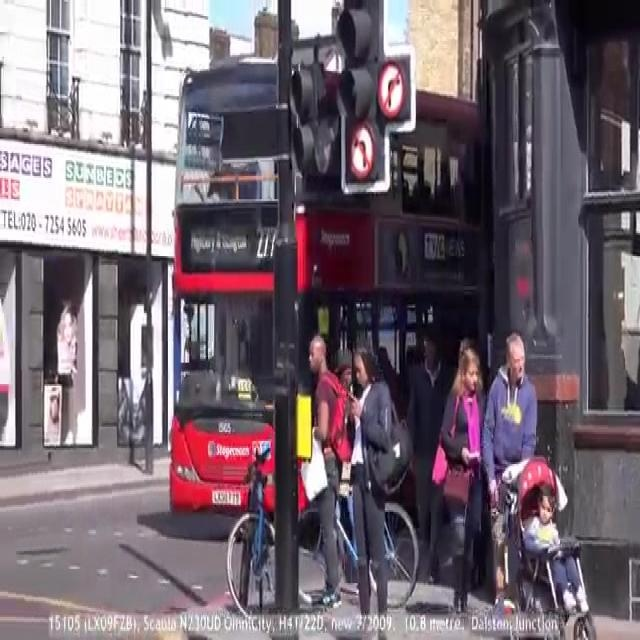Bus: (164, 54, 480, 513)
